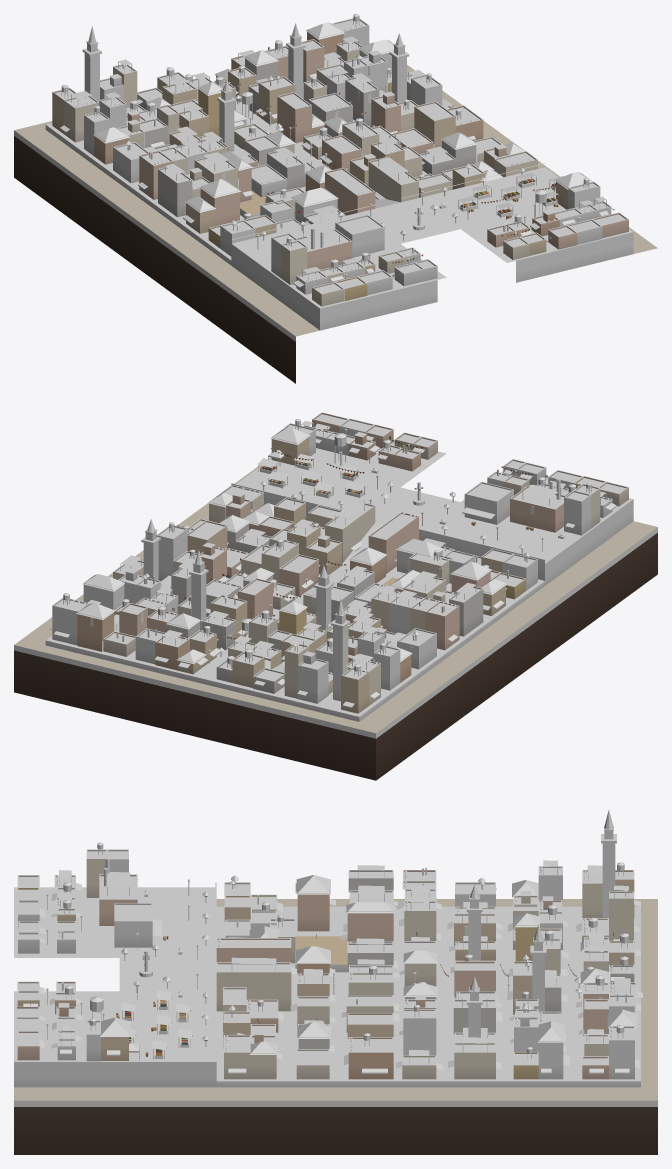
File: ordo_back_up.glb
The picture shows the model from 3 angles, top to bottom: view 1: azimuth 30°, elevation 25°; view 2: azimuth 150°, elevation 25°; view 3: azimuth 270°, elevation 25°; orthographic projection. The views are drawn at different scales.
Parts seen in each view (by area): view 1: ordo_back_up; view 2: ordo_back_up; view 3: ordo_back_up.
Part boxes in pixels (<box>): ordo_back_up: <box>14,14,657,383</box>; ordo_back_up: <box>14,412,657,780</box>; ordo_back_up: <box>14,810,657,1154</box>.
Size of the model in its own units: 112 by 45.44 by 151.
